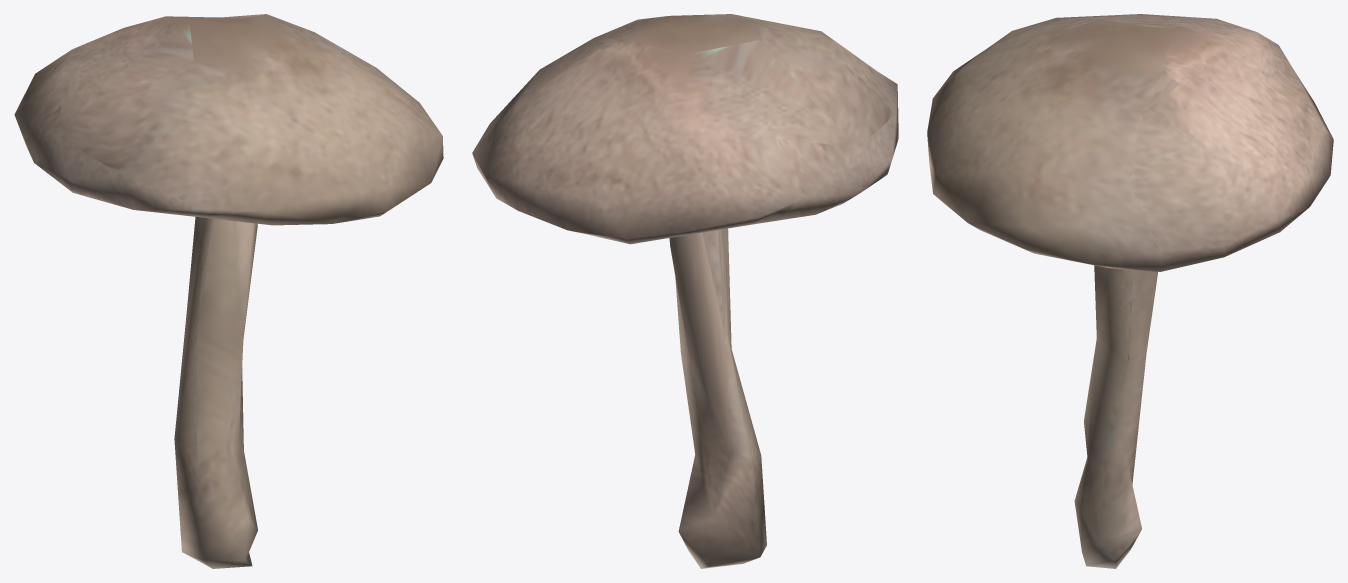
File: fungus-pale-d.gltf
The picture shows the model from 3 angles, left to right: view 1: azimuth 30°, elevation 25°; view 2: azimuth 150°, elevation 25°; view 3: azimuth 270°, elevation 25°; orthographic projection. The views are drawn at different scales.
Visible parts, largest first — view 1: fungus-pale-d; view 2: fungus-pale-d; view 3: fungus-pale-d.
Boxes of the visible parts, bbox=[...] form: fungus-pale-d: bbox=[14, 14, 443, 568]; fungus-pale-d: bbox=[472, 14, 898, 568]; fungus-pale-d: bbox=[927, 14, 1333, 568].
Bounding box in the file's own units: 0.4452 × 0.6182 × 0.4279.
Materials: 1 (1 with a texture image).
